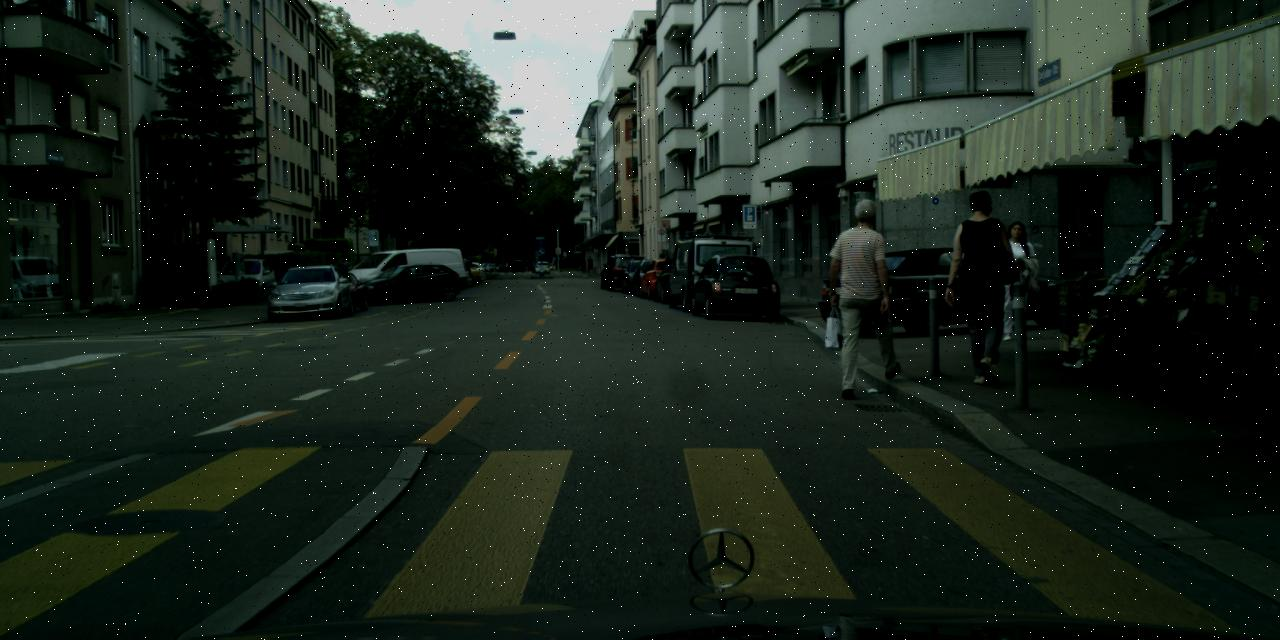ped: (944, 190, 1021, 380), (829, 198, 906, 386), (992, 222, 1039, 338), (338, 256, 351, 290), (586, 255, 594, 274), (580, 258, 585, 271)
